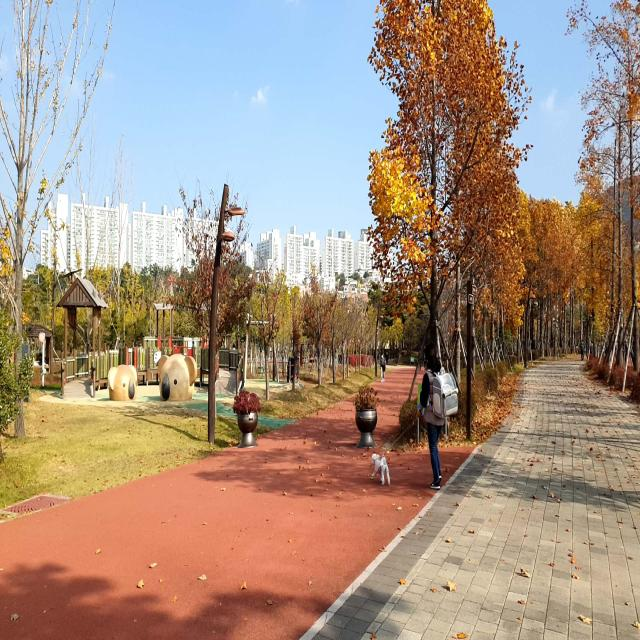Leashed_Dog: (371, 403, 436, 488)
